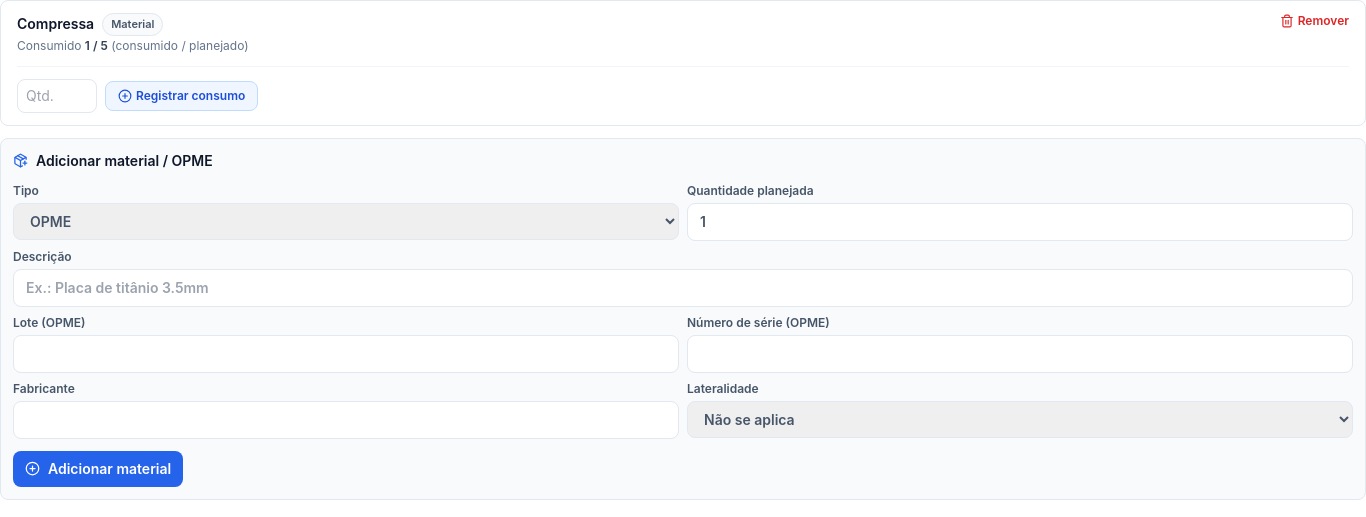
SurgeryMaterialsPanel › registers consumption and reflects the new consumed quantity
The image size is (1366, 517).
Expected: the text "Compressa" is shown, x1=17 y1=14 x2=94 y2=34
Expected: the text "1 / 5" is shown, x1=85 y1=38 x2=108 y2=52
In the number field named "Consumo de Compressa": (57, 96) x1=17 y1=78 x2=97 y2=112, type "2"
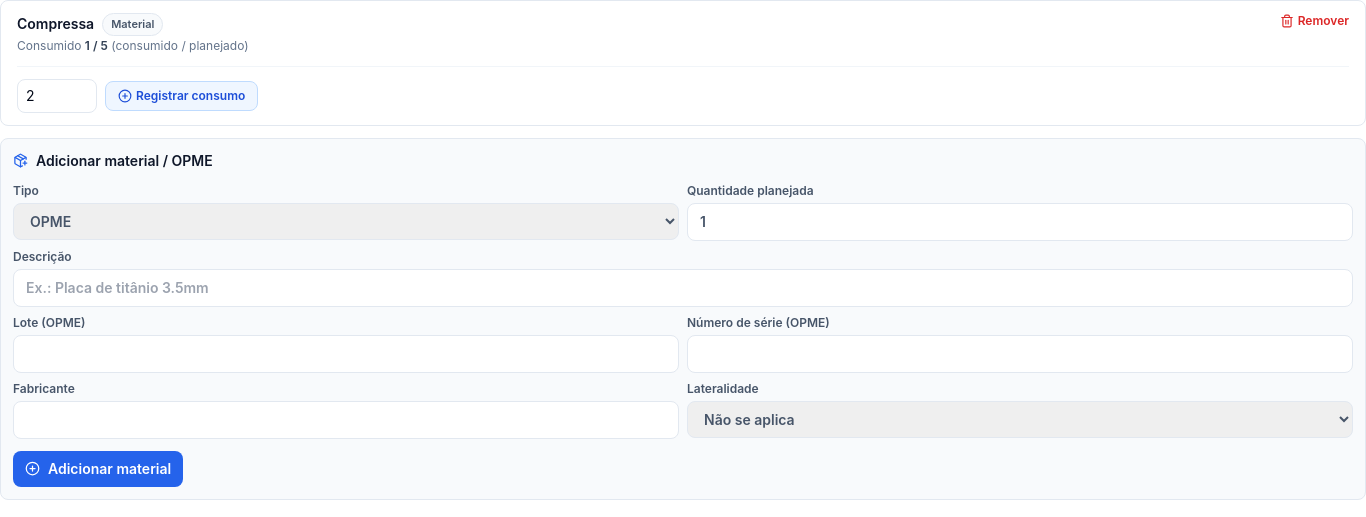
Click the button "Registrar consumo": (182, 96) x1=105 y1=80 x2=258 y2=110
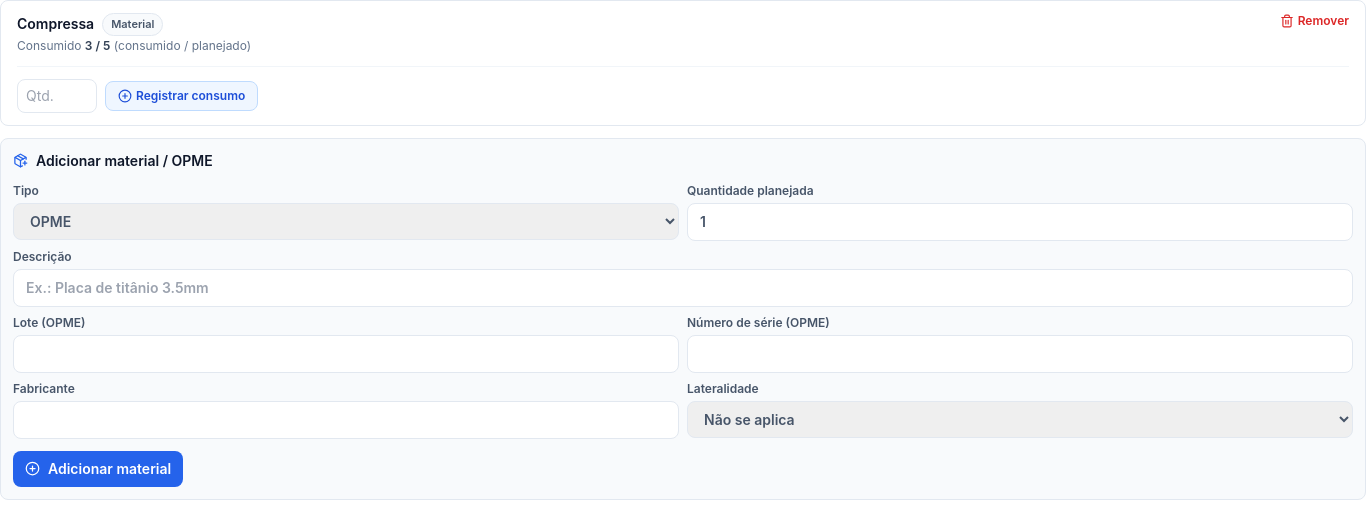
Expected: the text "3 / 5" is shown, x1=85 y1=38 x2=110 y2=52
